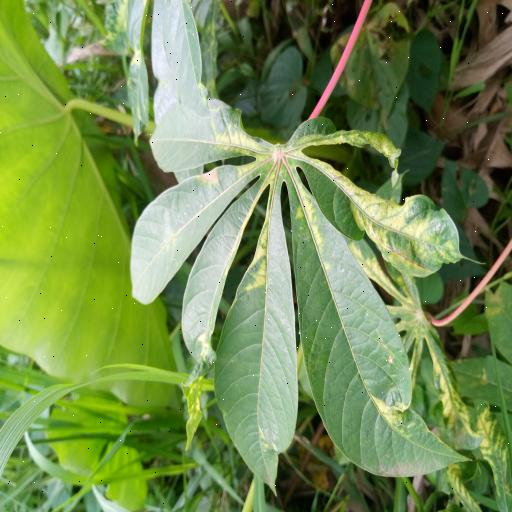Cassava_Mosaic: (125, 90, 474, 494)
